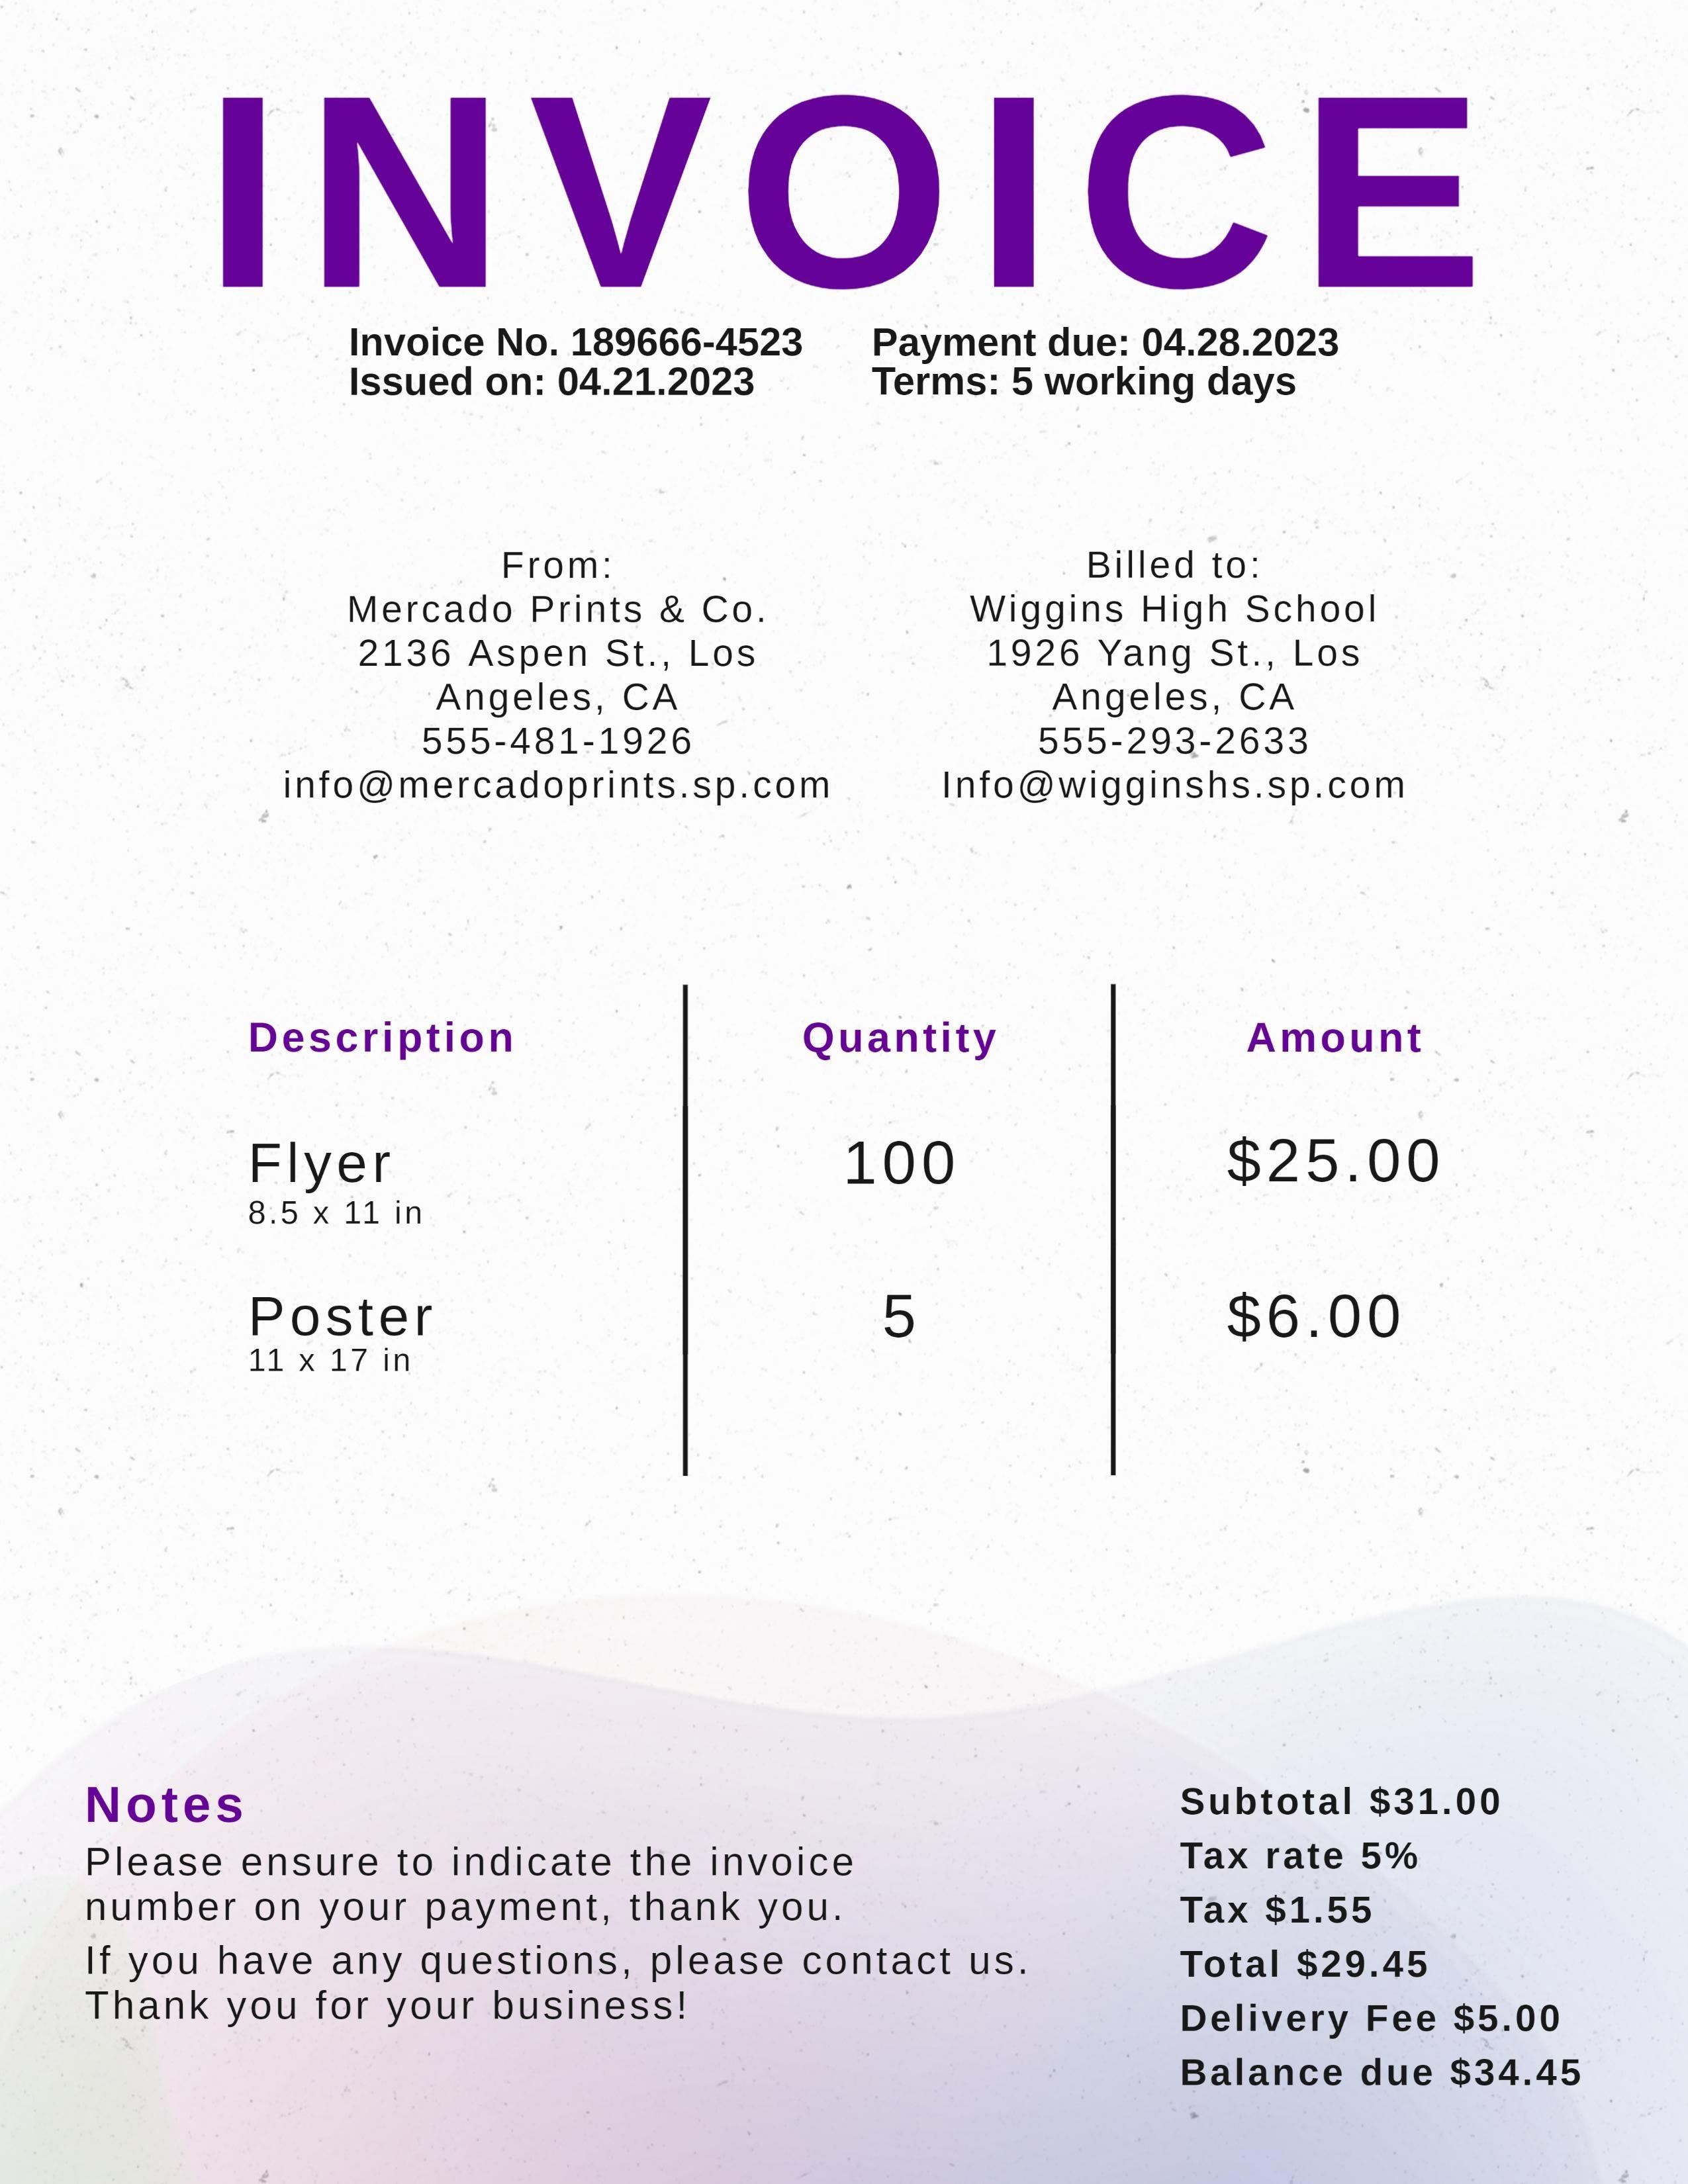ROI: (236, 1016, 1571, 1457), (85, 1828, 1034, 2039), (275, 530, 855, 817), (1174, 1780, 1601, 2108), (321, 301, 1488, 418), (942, 539, 1420, 819)
